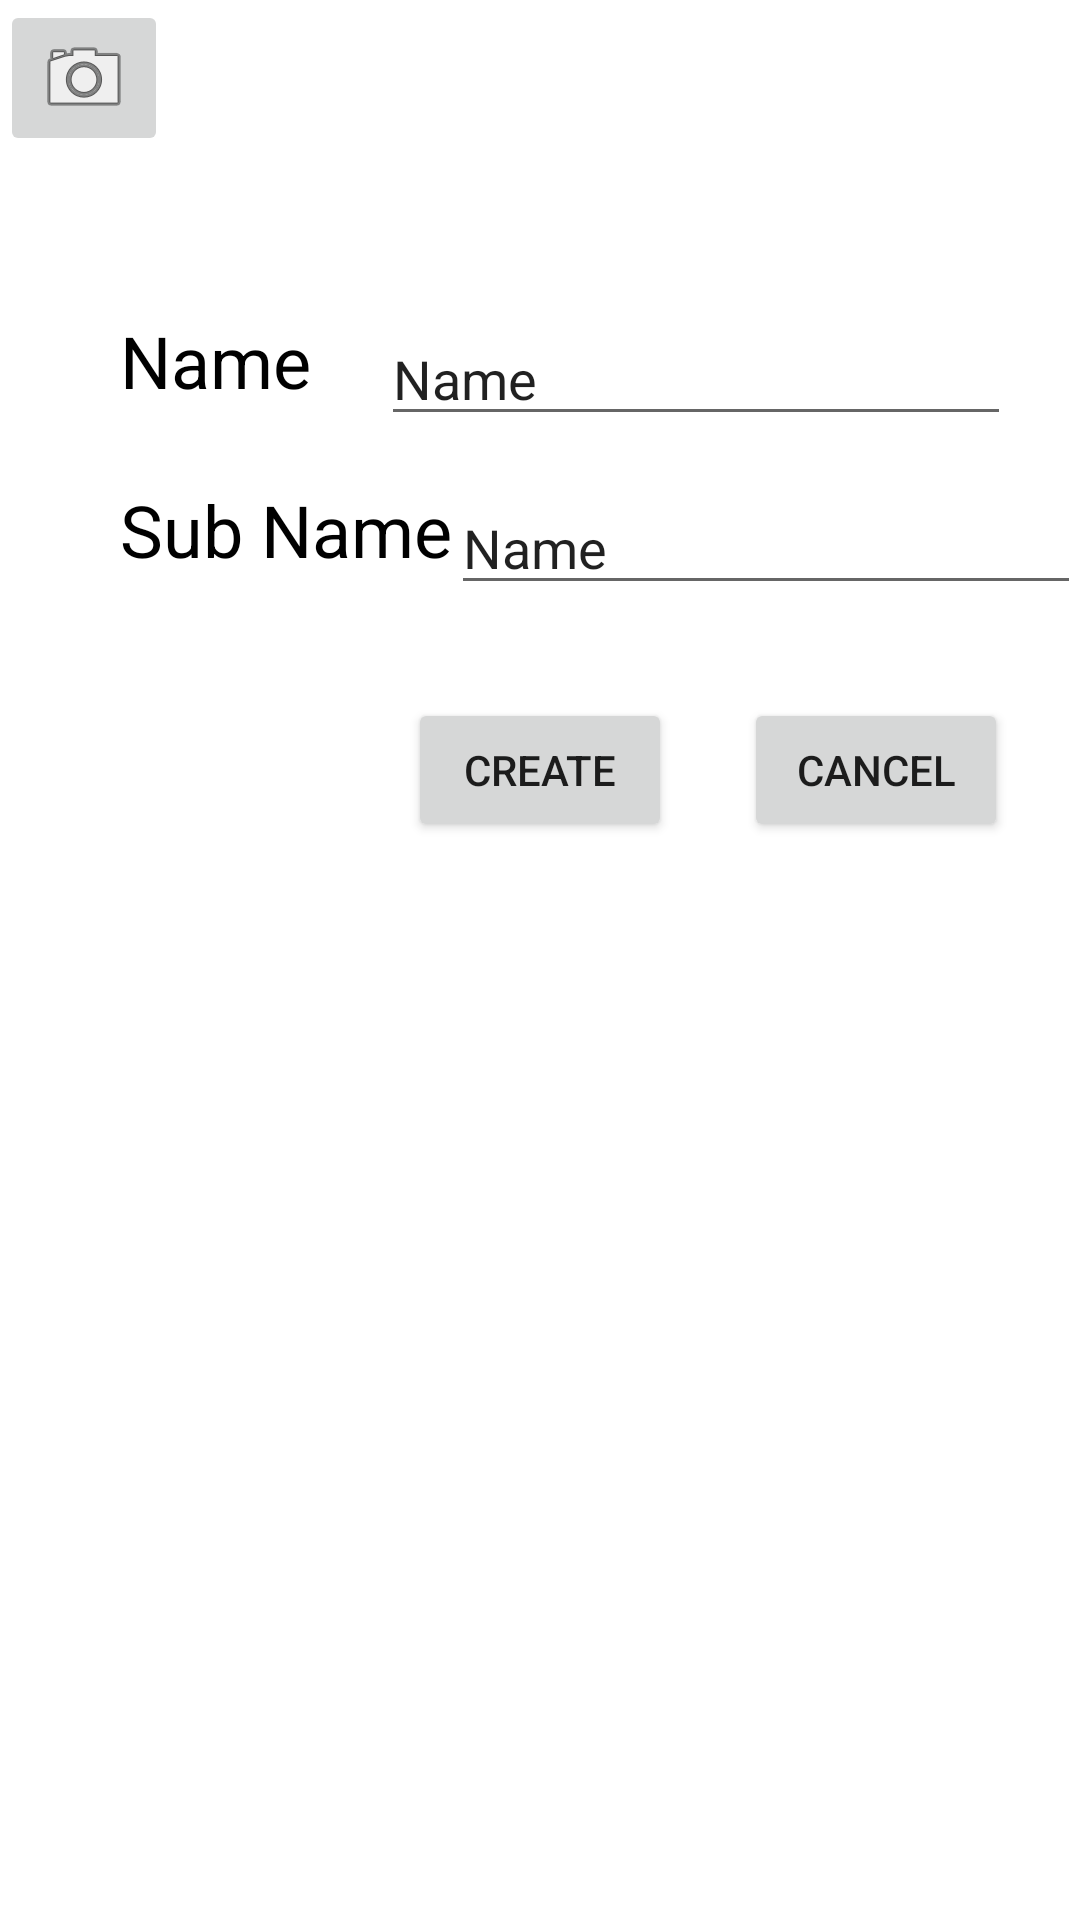

Icon bounding boxes for this 1080px×1920px phone screenshot, format (x1, y1, x2, y2):
camera: (12, 18, 156, 138)
